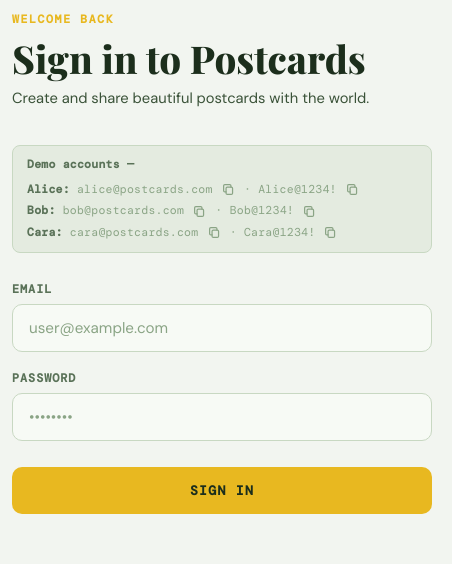
Test: LoginForm › shows error message on failed login
Type "alice@postcards.app" into the field labelled "Email" at (222, 328), box [12, 304, 432, 352]
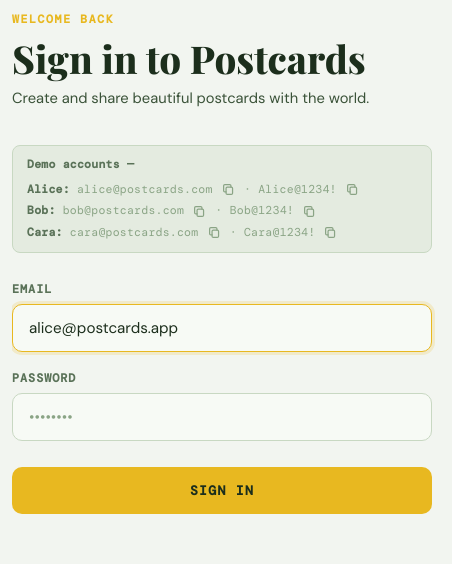
Type "wrongpassword" into the password field labelled "Password" at (222, 417), box [12, 393, 432, 441]
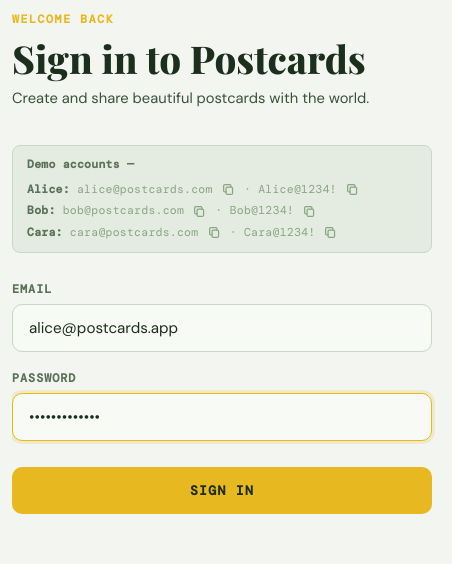
Click the button "Sign In" at (222, 490), box [12, 467, 432, 514]
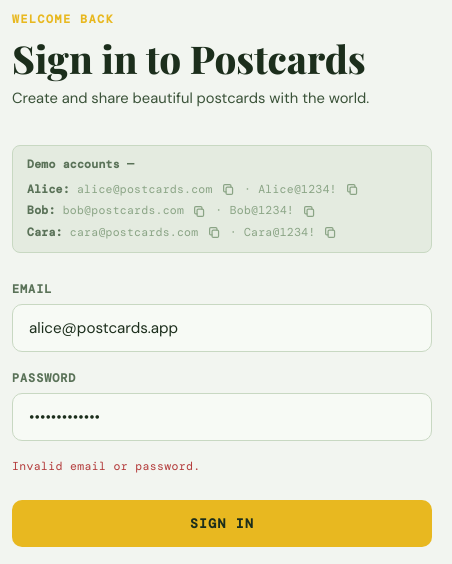
Expected: the text "Invalid email or password." is shown, [12, 459, 201, 474]
